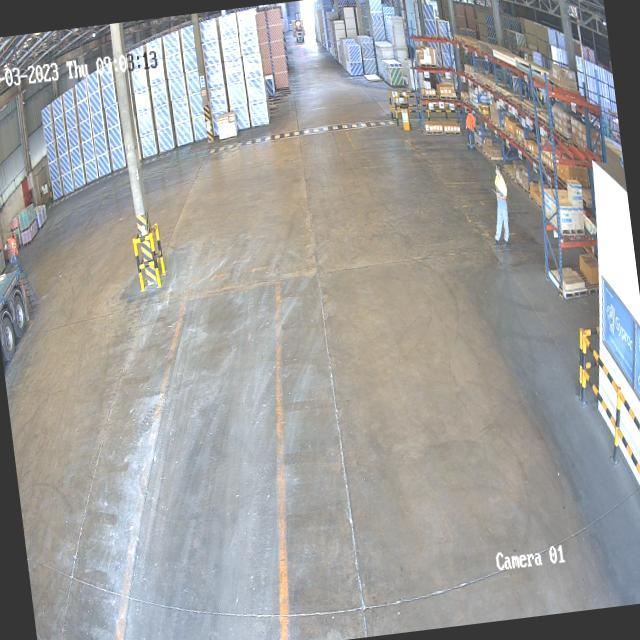person: (484, 157, 513, 247), (462, 107, 478, 149), (4, 228, 20, 268)
